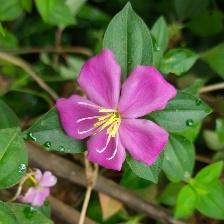malabar melastome: (52, 49, 178, 173)
